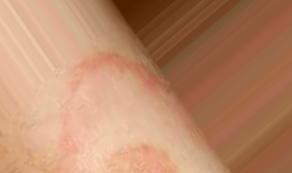Tick: (106, 128, 176, 172)
